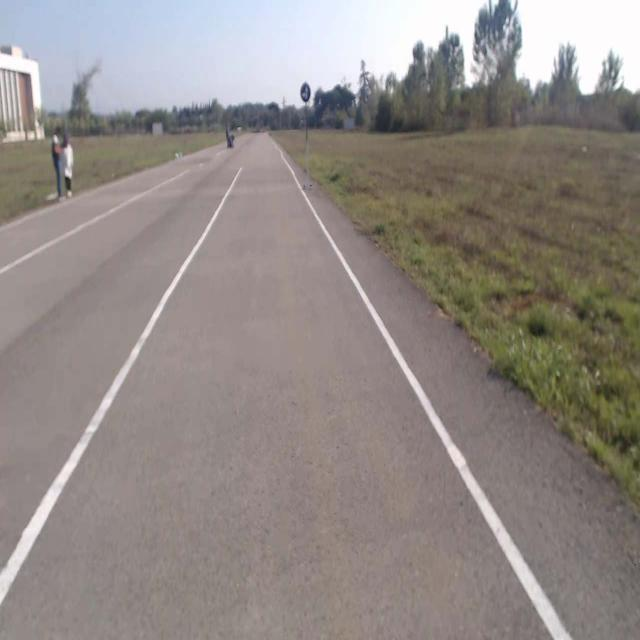ilerisol: (300, 82, 310, 102)
